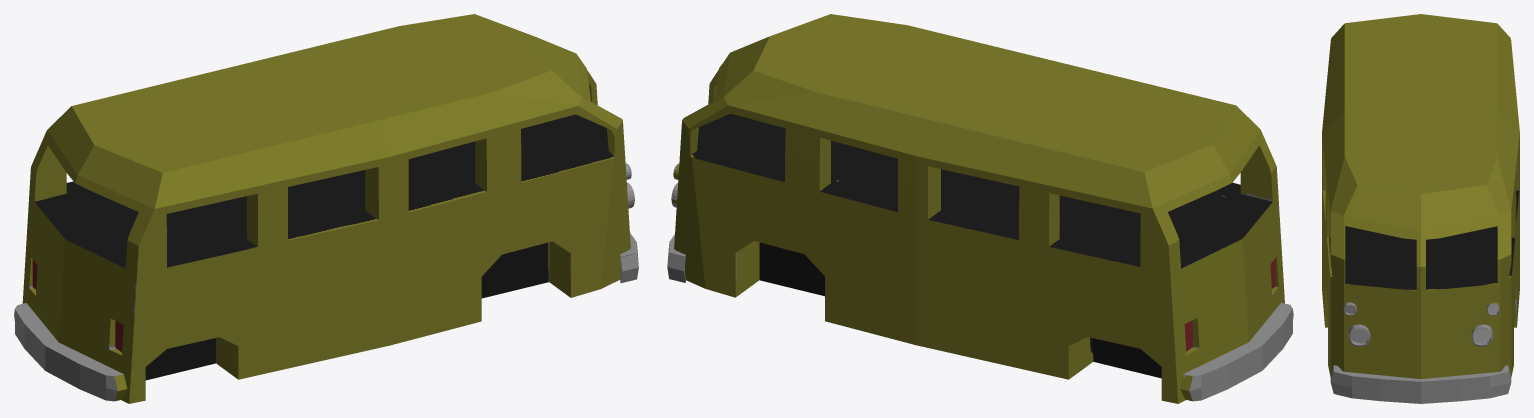
File: modeloahorasi.fbx
The picture shows the model from 3 angles, left to right: view 1: azimuth 30°, elevation 25°; view 2: azimuth 150°, elevation 25°; view 3: azimuth 270°, elevation 25°; orthographic projection. The views are drawn at different scales.
Visible parts, largest first — view 1: Cube; view 2: Cube; view 3: Cube.
Part boxes in pixels (x1,y1,x2,y2): Cube: (14, 14, 638, 403); Cube: (667, 14, 1293, 403); Cube: (1322, 14, 1519, 403).
Bounding box in the file's own units: 550 × 201 × 200.
1 material, 1 textured.
